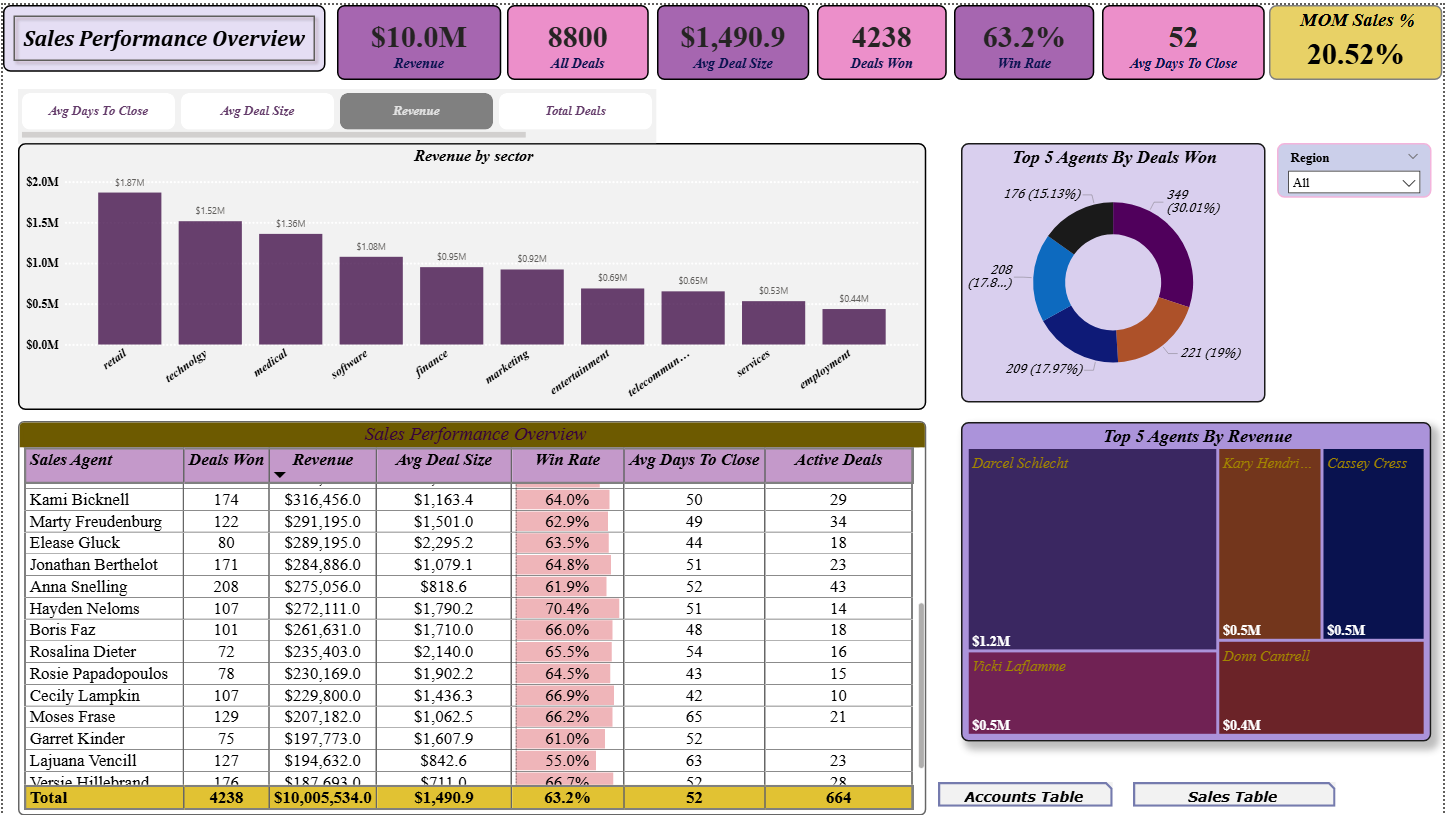

What the dashboard file says about the page in this screenshot:
{"tool":"powerbi","page":{"name":"Sales Overview","canvas":[1920,1080],"ordinal":0},"visuals":[{"type":"kpi","title":"MOM Sales % ","fields":{"Indicator":["#measures.MOM Sales %"],"TrendLine":["sales_pipeline.close_date.Variation.Date Hierarchy.Month"]},"box":[1688.6,0,231.4,100],"z":0},{"type":"card","fields":{"Values":["#measures.Deals Won"]},"box":[1085.7,0,172.9,100],"z":1000},{"type":"card","fields":{"Values":["#measures.Revenue"]},"box":[445.7,0,218.6,100],"z":2000},{"type":"card","fields":{"Values":["#measures.Win Rate"]},"box":[1268.6,0,187.1,100],"z":3000},{"type":"card","fields":{"Values":["#measures.Avg Days To Close"]},"box":[1465.7,0,217.1,100],"z":4000},{"type":"card","fields":{"Values":["#measures.Avg Deal Size"]},"box":[871.4,0,202.9,100],"z":5000},{"type":"card","fields":{"Values":["#measures.Prospecting Deals"]},"box":[671.4,0,188.6,100],"z":7000},{"type":"columnChart","fields":{"Y":["#measures.Revenue"],"Category":["accounts.sector"]},"box":[20,184.3,1211.4,355.7],"z":8000},{"type":"advancedSlicerVisual","title":"Sector Parmetres","fields":{"Values":["Selector Parms.Selector Parms"]},"box":[20,111.4,851.4,72.9],"z":9000},{"type":"tableEx","title":"Sales Performance Overview","fields":{"Values":["sales_teams.sales_agent","#measures.Deals Won","#measures.Revenue","#measures.Avg Deal Size","#measures.Win Rate","#measures.Avg Days To Close","#measures.Active Deals"]},"box":[20,554.3,1211.4,525.7],"z":10000},{"type":"actionButton","box":[1507.1,1035.7,270,32.9],"z":11000},{"type":"actionButton","box":[1247.1,1035.7,232.9,32.9],"z":12000},{"type":"actionButton","title":"Product Analysis","box":[0,0,430,88.6],"z":13000},{"type":"donutChart","title":"Top 5 Agents By Deals  Won","fields":{"Category":["sales_pipeline.sales_agent"],"Y":["#measures.Deals Won"]},"box":[1277.1,184.3,405.7,345.7],"z":14000},{"type":"treemap","title":"Top 5 Agents By Revenue","fields":{"Group":["sales_teams.sales_agent"],"Values":["#measures.Revenue"]},"box":[1277.1,555.7,627.1,425.7],"z":15000},{"type":"slicer","fields":{"Values":["sales_teams.regional_office"]},"box":[1698.6,184.3,205.7,72.9],"z":16000}]}

Visuals, with their boxes in screenshot pixels (x1, y1, x2, y2), scaled from the page's 1920x1080 canvas onto the 1449x815 screenshot:
"MOM Sales % " kpi: bbox=[1274, 0, 1448, 75]
card - #measures.Deals Won: bbox=[819, 0, 950, 75]
card - #measures.Revenue: bbox=[336, 0, 501, 75]
card - #measures.Win Rate: bbox=[957, 0, 1099, 75]
card - #measures.Avg Days To Close: bbox=[1106, 0, 1270, 75]
card - #measures.Avg Deal Size: bbox=[658, 0, 811, 75]
card - #measures.Prospecting Deals: bbox=[507, 0, 649, 75]
columnChart - #measures.Revenue x accounts.sector: bbox=[15, 139, 929, 408]
"Sector Parmetres" advancedSlicerVisual: bbox=[15, 84, 658, 139]
"Sales Performance Overview" tableEx: bbox=[15, 418, 929, 814]
actionButton: bbox=[1137, 782, 1341, 806]
actionButton: bbox=[941, 782, 1117, 806]
"Product Analysis" actionButton: bbox=[0, 0, 325, 67]
"Top 5 Agents By Deals  Won" donutChart: bbox=[964, 139, 1270, 400]
"Top 5 Agents By Revenue" treemap: bbox=[964, 419, 1437, 741]
slicer - sales_teams.regional_office: bbox=[1282, 139, 1437, 194]
